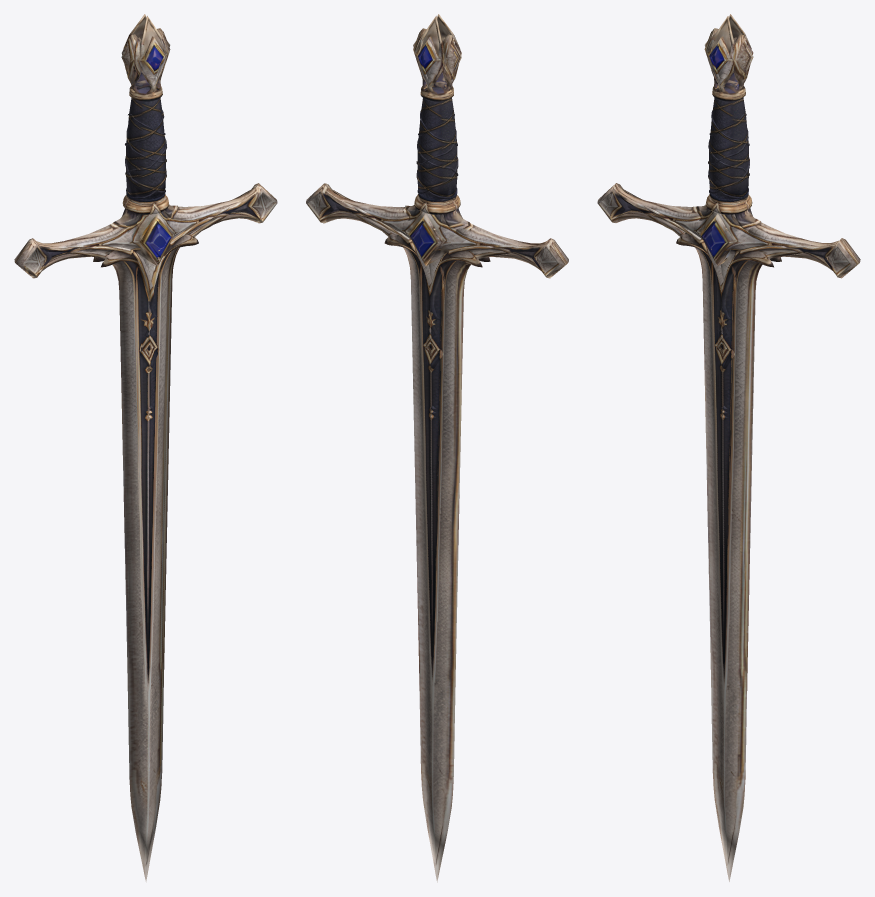
File: fantasy+sword+3d+model.glb
3 renders of one model, left to right at view 1: azimuth 30°, elevation 25°; view 2: azimuth 150°, elevation 25°; view 3: azimuth 330°, elevation 25°, orthographic.
Parts seen in each view (by area): view 1: tripo_node_c6105aa9-623f-4fb6-8bb8-971dd5a81e4e; view 2: tripo_node_c6105aa9-623f-4fb6-8bb8-971dd5a81e4e; view 3: tripo_node_c6105aa9-623f-4fb6-8bb8-971dd5a81e4e.
Part boxes in pixels (box(x1,y1,x2,y2)): tripo_node_c6105aa9-623f-4fb6-8bb8-971dd5a81e4e: box(14, 14, 277, 882); tripo_node_c6105aa9-623f-4fb6-8bb8-971dd5a81e4e: box(306, 14, 568, 882); tripo_node_c6105aa9-623f-4fb6-8bb8-971dd5a81e4e: box(597, 14, 860, 881).
Size of the model in its own units: 0.3149 by 0.9995 by 0.0786.
Materials: 1 (1 with a texture image).
